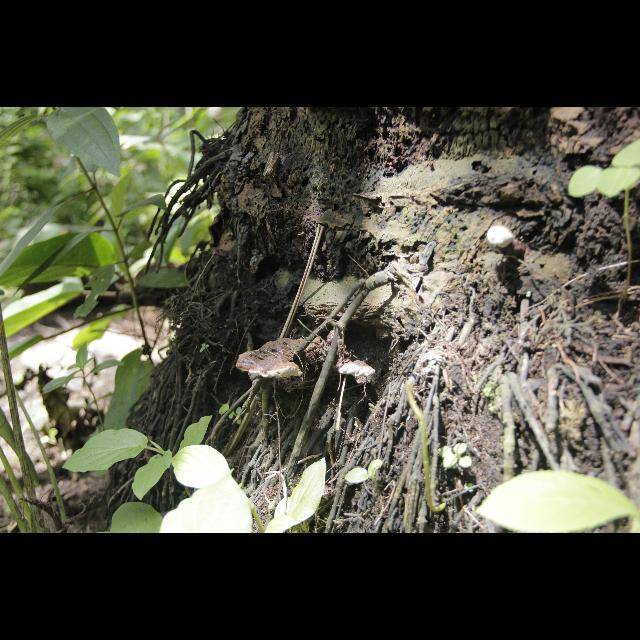ganoderma: (237, 337, 310, 380), (336, 360, 377, 379)
primordium: (487, 227, 515, 252)
